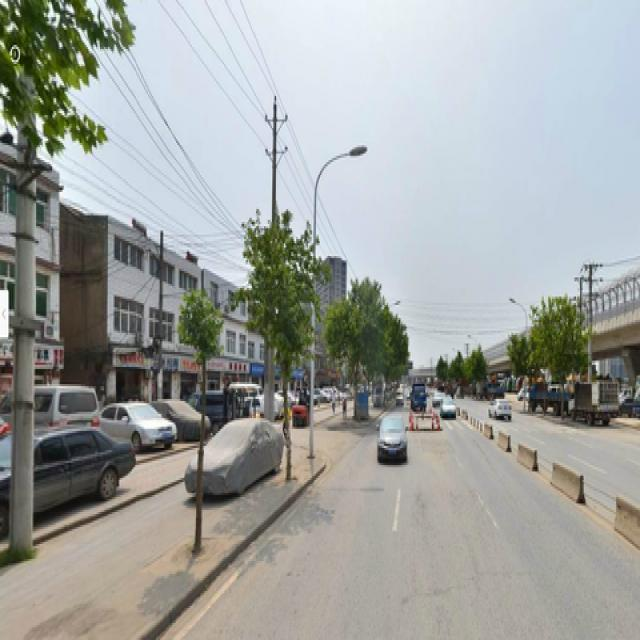meta: (249, 233, 308, 480)
